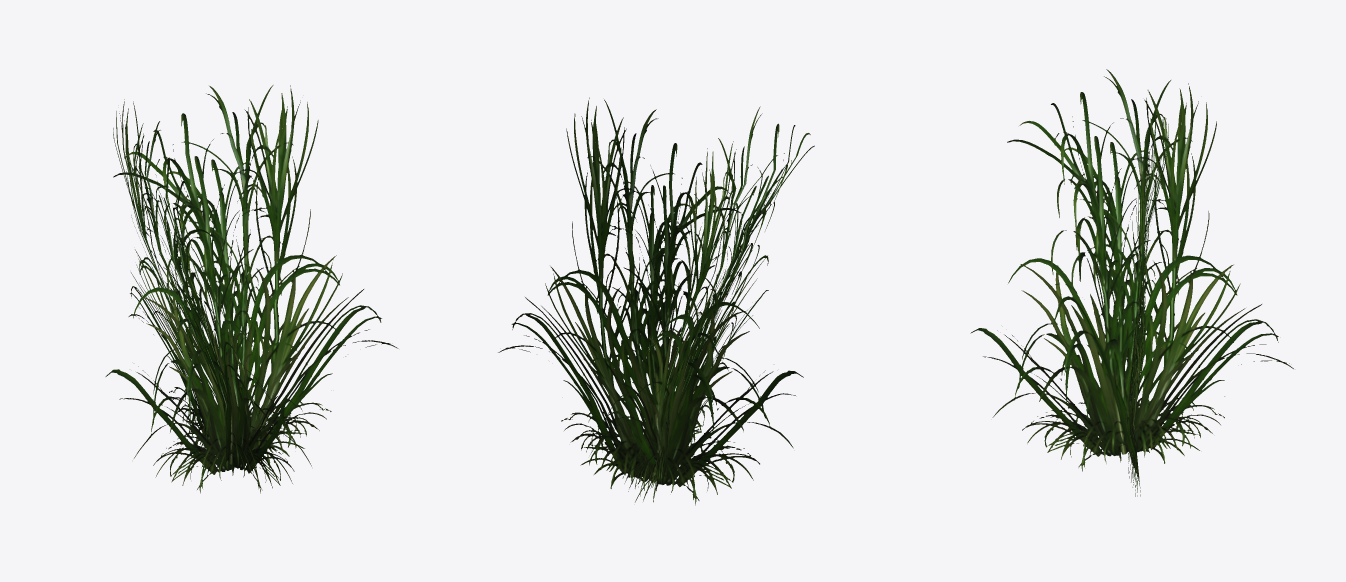
3 views of the same model, side by side, from view 1: azimuth 30°, elevation 25°; view 2: azimuth 150°, elevation 25°; view 3: azimuth 270°, elevation 25° (orthographic). The views are drawn at different scales.
Parts seen in each view (by area): view 1: pasted__pPlane1, pPlane1; view 2: pasted__pPlane1, pPlane1; view 3: pPlane1, pasted__pPlane1.
Part boxes in pixels (x1,y1,x2,y2): pasted__pPlane1: [105, 85, 398, 493]; pPlane1: [113, 99, 311, 493]; pasted__pPlane1: [498, 97, 803, 505]; pPlane1: [590, 106, 814, 502]; pPlane1: [970, 69, 1293, 471]; pasted__pPlane1: [1101, 108, 1168, 496].
Size of the model in its own units: 1.02 by 1.05 by 1.03.
1 material, 1 textured.
